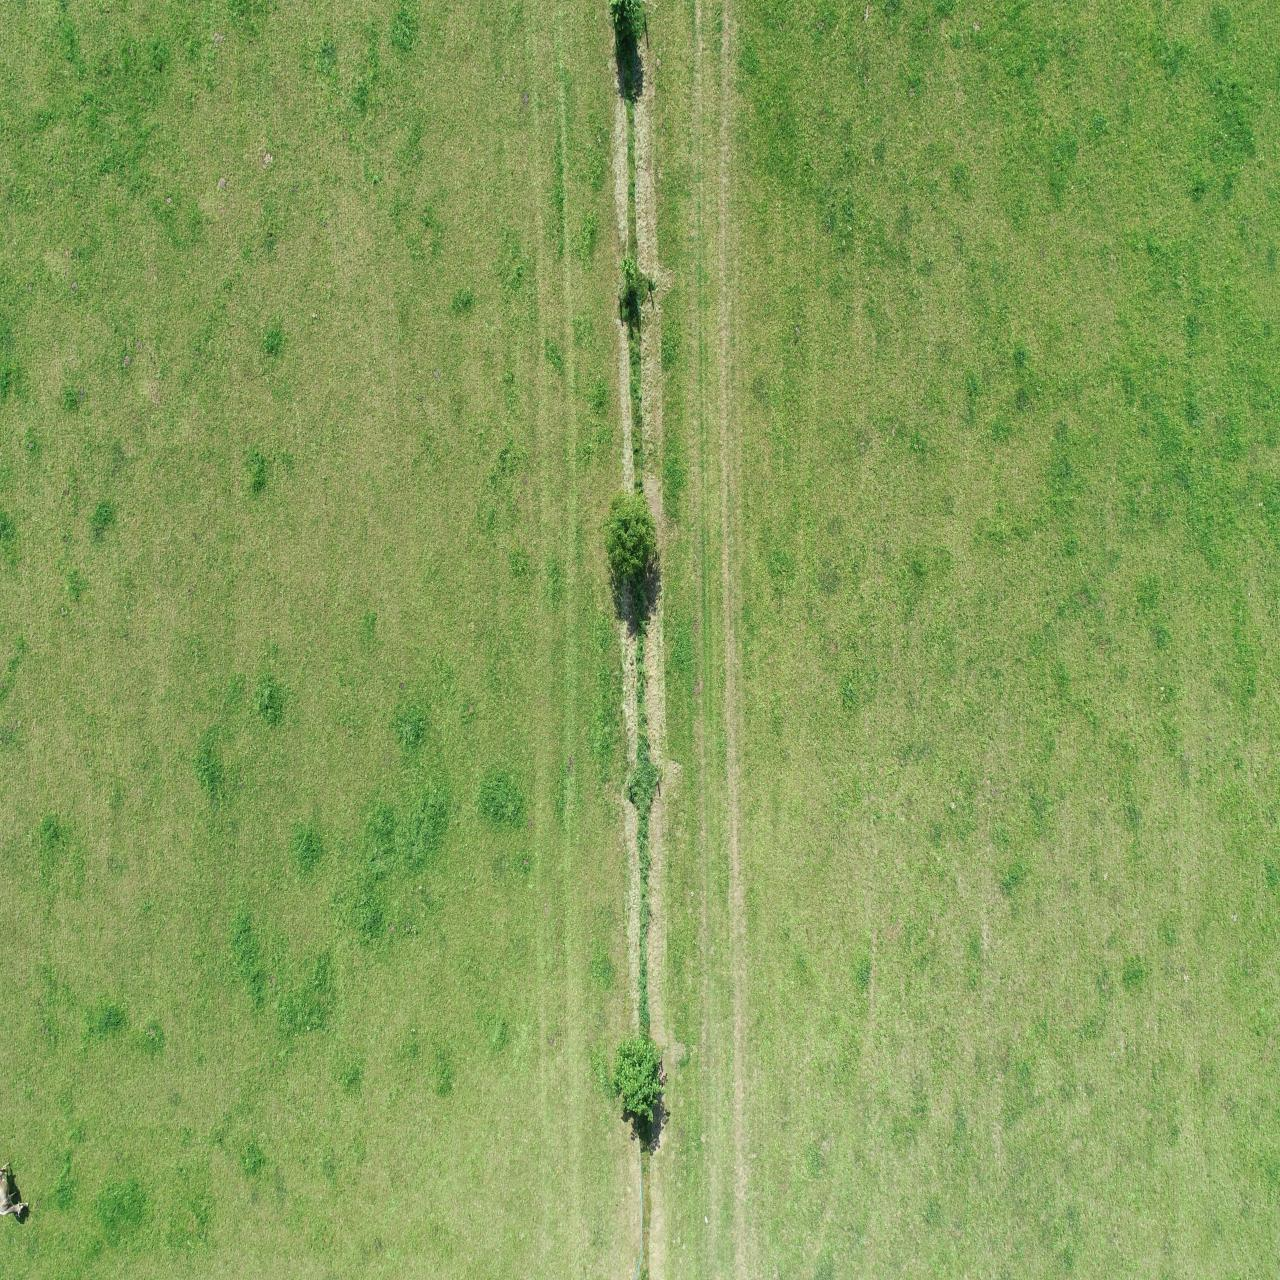cow: (1103, 1087, 1130, 1149), (1099, 1226, 1129, 1280), (511, 1034, 531, 1099)
